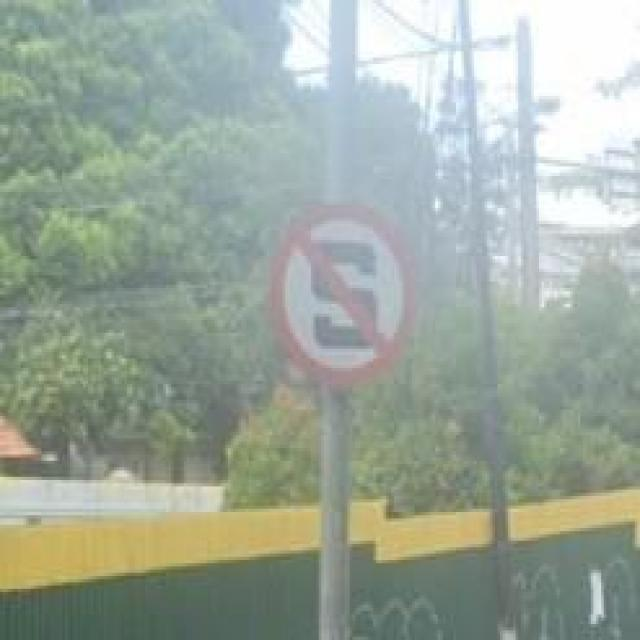traffic sign: (267, 208, 412, 384)
